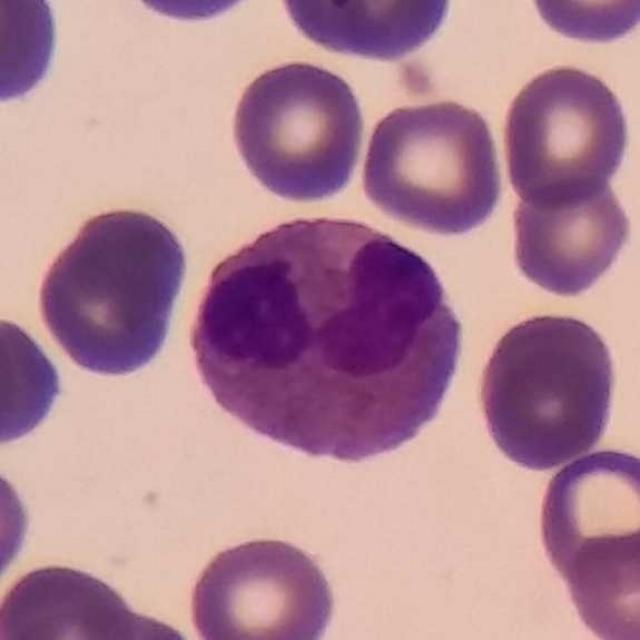Eosinophil: (173, 204, 473, 483)
RBC: (30, 198, 194, 383), (472, 306, 623, 475), (356, 93, 509, 240), (226, 56, 369, 208), (496, 59, 636, 210), (182, 528, 341, 640), (505, 174, 637, 300), (532, 443, 639, 592), (269, 0, 462, 67), (0, 556, 144, 640), (0, 308, 70, 457), (562, 524, 640, 640), (0, 0, 69, 118), (522, 0, 640, 49), (0, 452, 37, 608), (55, 607, 213, 640), (134, 0, 254, 31)
